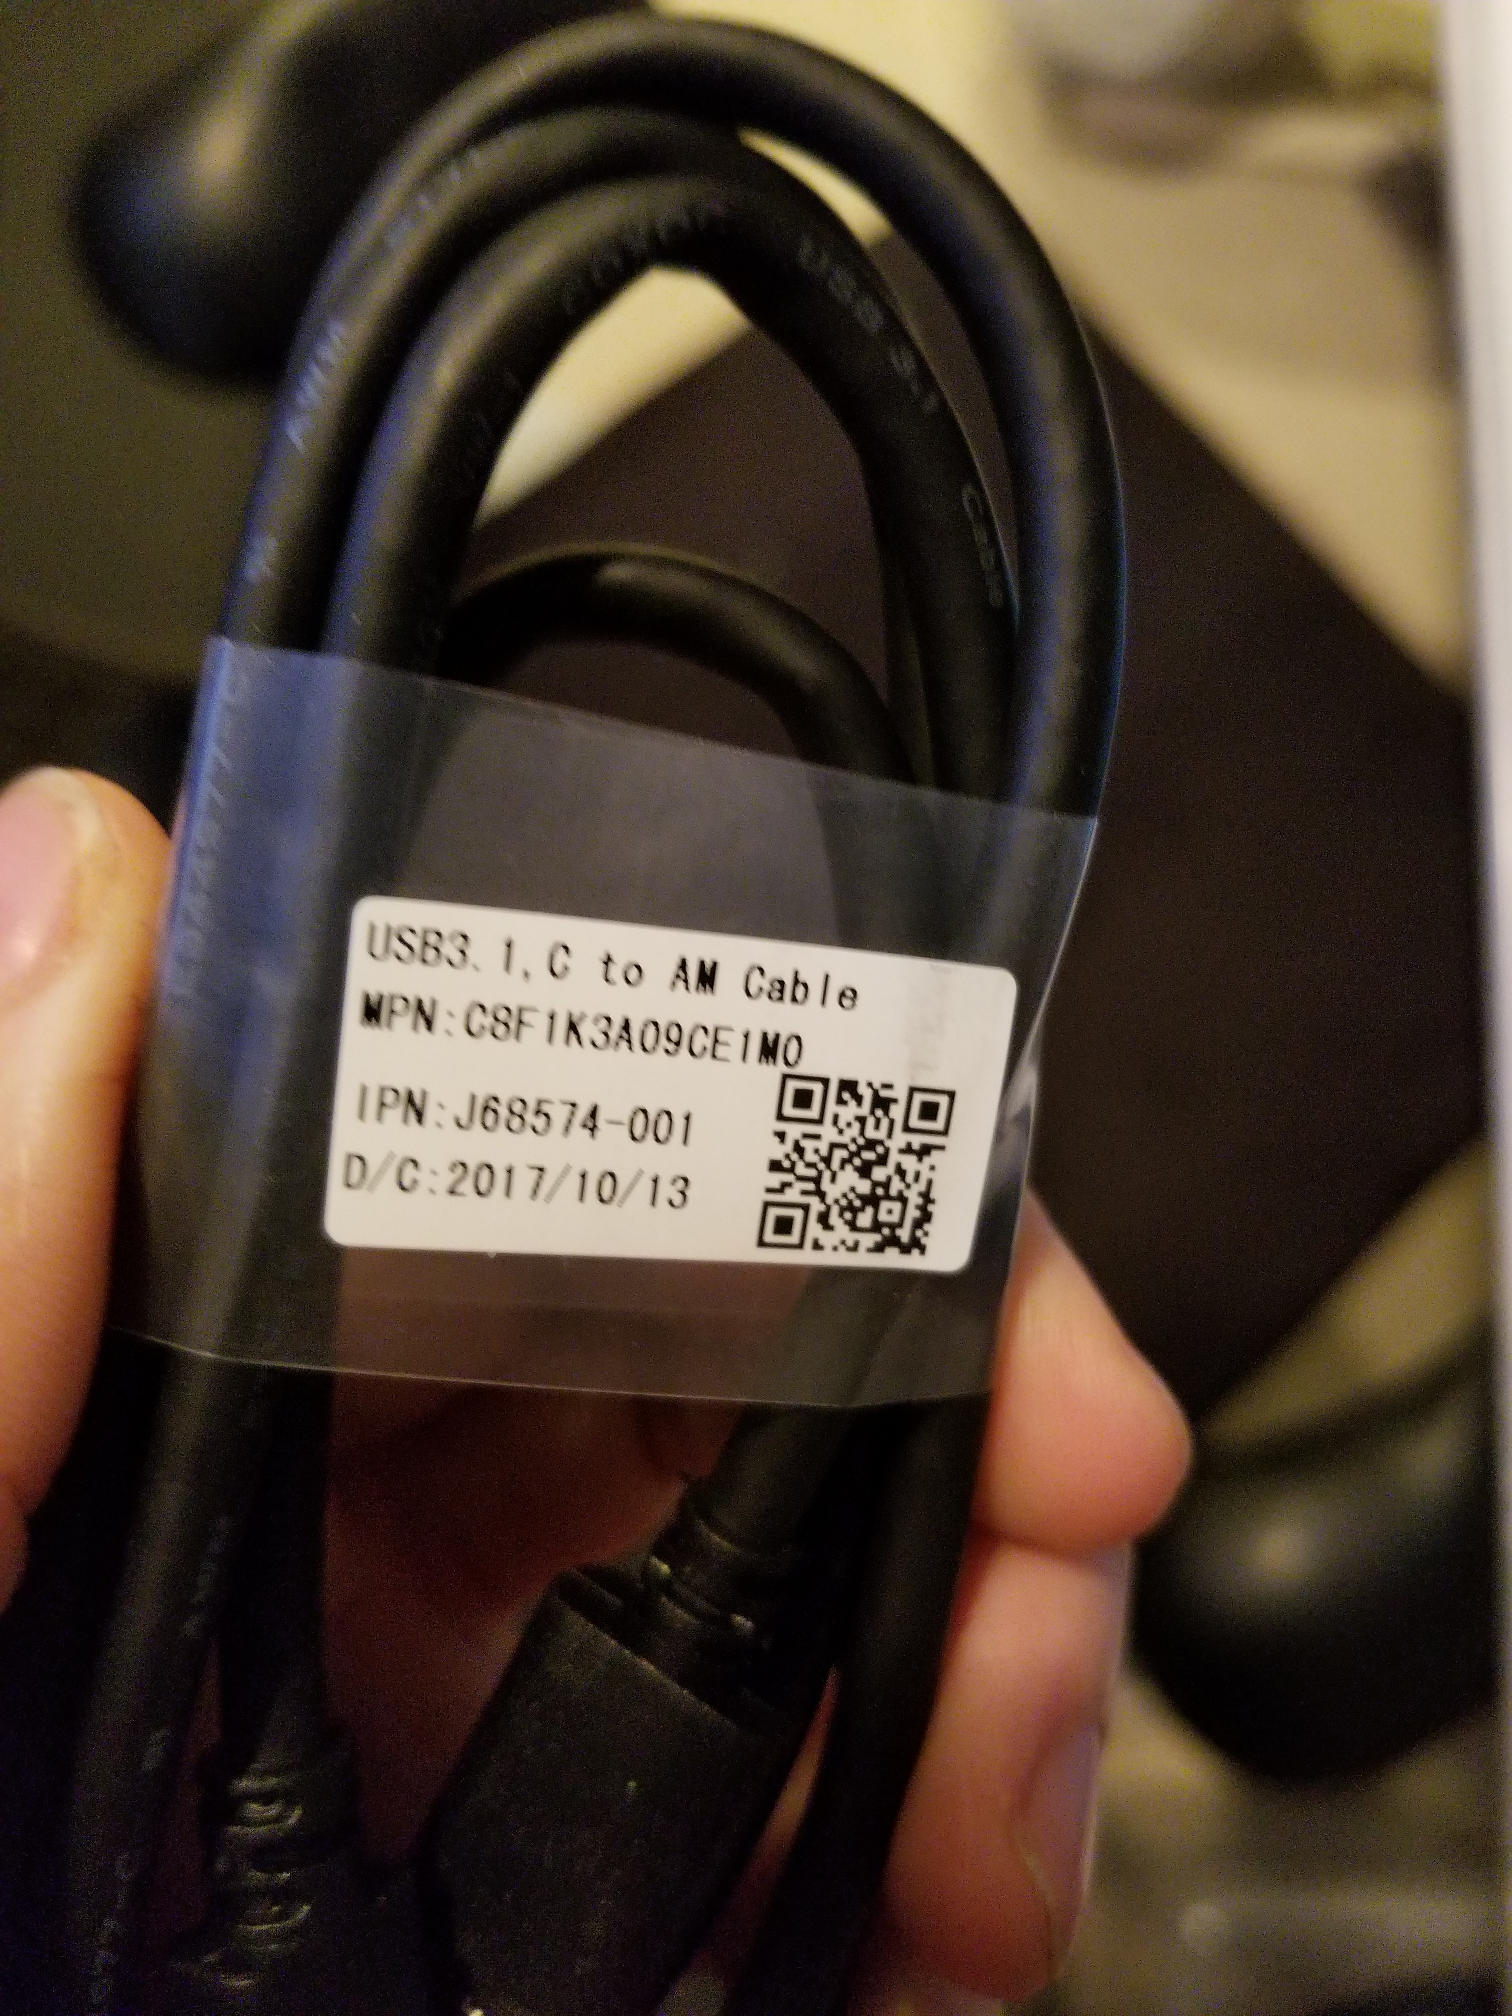QR_CODE: (721, 1030, 966, 1287)
